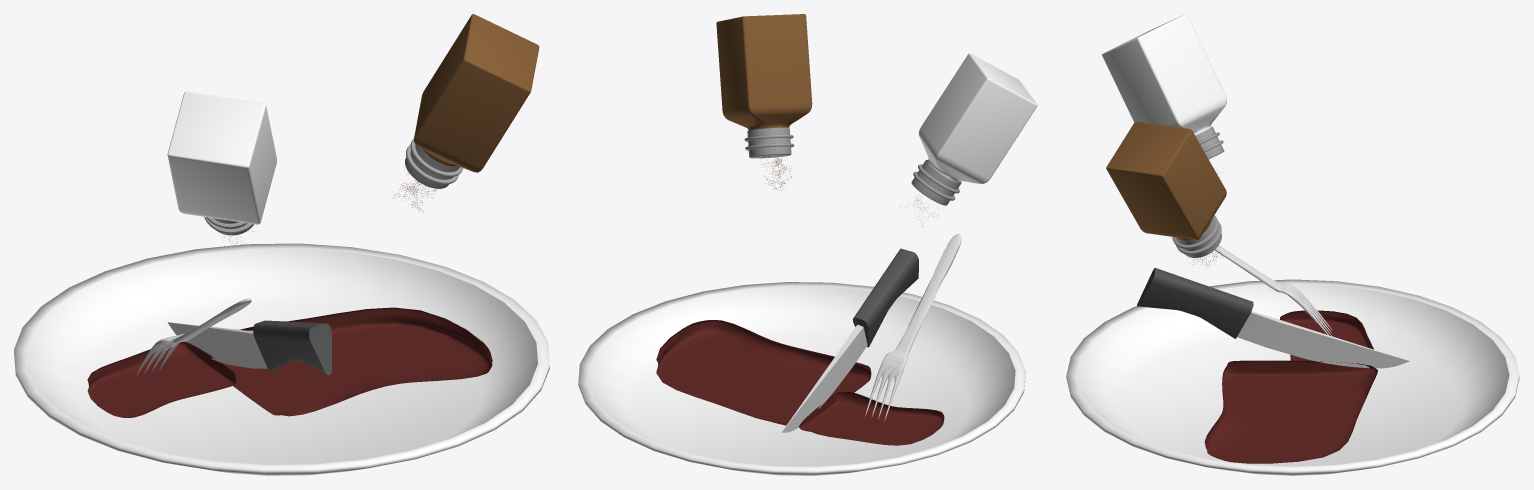
The model's file is Saltershakerssmallerv2.glb.
3 renders of one model, left to right at view 1: azimuth 30°, elevation 25°; view 2: azimuth 150°, elevation 25°; view 3: azimuth 270°, elevation 25°, orthographic. The views are drawn at different scales.
Visible parts, largest first — view 1: Cylinder.009, Cube.005, Cube.004, Cube.003, Cube.006, Cube.002, Cube.008, Cylinder.001, Cube.007, Cylinder.003; view 2: Cylinder.009, Cube.005, Cube.004, Cube.003, Cube.006, Cube.007, Cube.002, Cube.008, Cylinder.001, Cylinder.003; view 3: Cylinder.009, Cube.005, Cube.004, Cube.003, Cube.008, Cube.002, Cube.006, Cube.007, Cylinder.001, Cylinder.003.
Part boxes in pixels (x1,y1,x2,y2): Cylinder.009: (14, 243, 549, 475); Cube.005: (222, 307, 492, 416); Cube.004: (414, 14, 539, 172); Cube.003: (167, 91, 276, 224); Cube.006: (87, 342, 236, 417); Cube.002: (253, 320, 331, 375); Cube.008: (167, 322, 267, 368); Cylinder.001: (405, 138, 463, 188); Cube.007: (136, 298, 251, 375); Cylinder.003: (204, 217, 253, 235); Cylinder.009: (578, 282, 1025, 475); Cube.005: (656, 320, 871, 425); Cube.004: (716, 14, 812, 130); Cube.003: (918, 53, 1037, 183); Cube.006: (799, 391, 944, 445); Cube.007: (865, 233, 961, 421); Cube.002: (853, 248, 918, 347); Cube.008: (781, 324, 867, 432); Cylinder.001: (744, 127, 793, 158); Cylinder.003: (911, 160, 961, 205); Cylinder.009: (1066, 279, 1519, 475); Cube.005: (1204, 360, 1377, 463); Cube.004: (1106, 121, 1226, 240); Cube.003: (1102, 14, 1226, 135); Cube.008: (1237, 311, 1409, 368); Cube.002: (1137, 268, 1253, 338); Cube.006: (1280, 310, 1373, 371); Cube.007: (1214, 245, 1332, 335); Cylinder.001: (1172, 215, 1221, 257); Cylinder.003: (1195, 127, 1224, 158).
Size of what is drawn, in the model's own units: 1.74 by 1.39 by 1.74.
